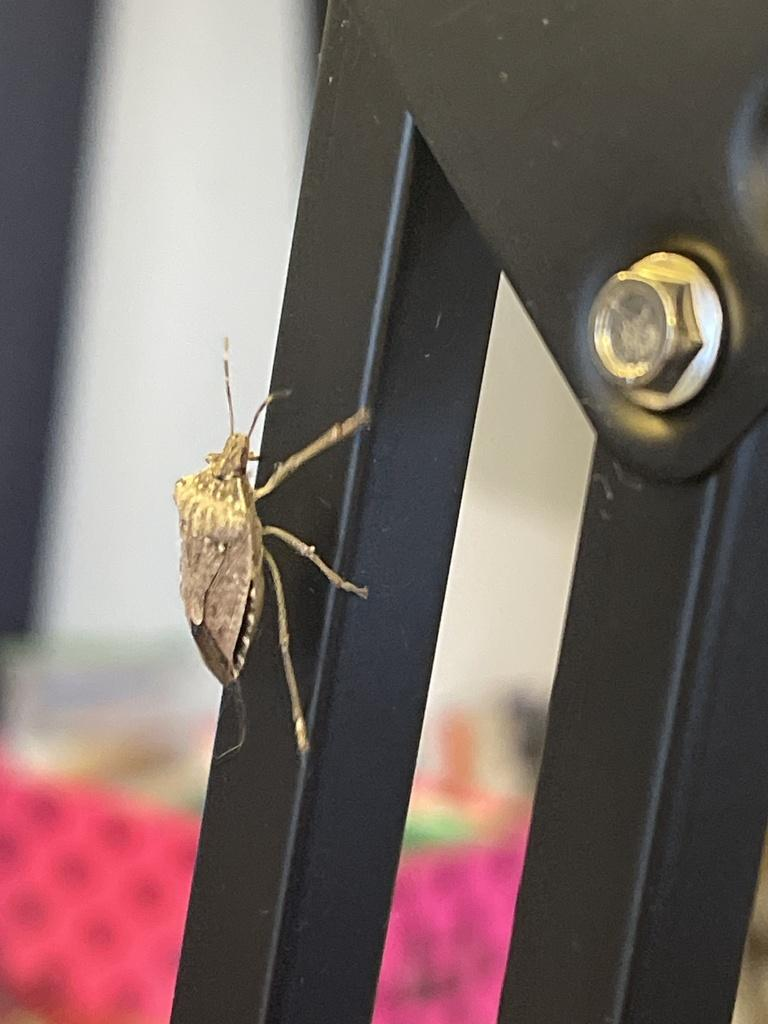stink_bugs: (106, 306, 412, 811)
